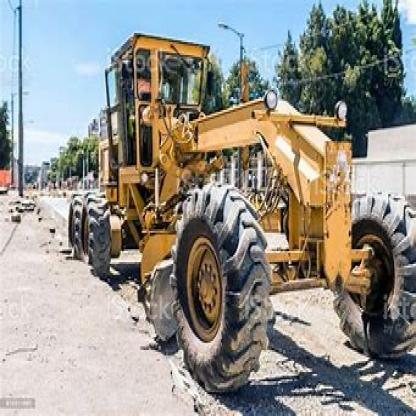bull_dozer/loader/grader: (58, 22, 414, 390)
